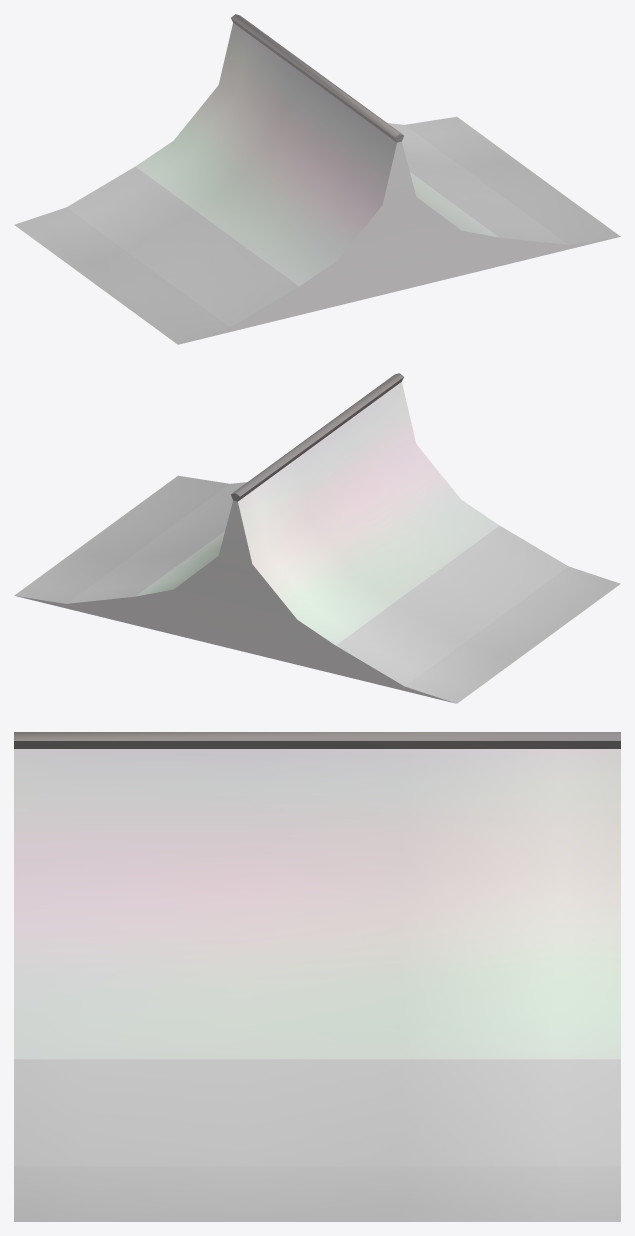
The model's file is SkateboardQuarterpipeSpineCement.glb.
3 views of the same model, one above another, from view 1: azimuth 30°, elevation 25°; view 2: azimuth 150°, elevation 25°; view 3: azimuth 270°, elevation 25° (orthographic). The views are drawn at different scales.
Parts seen in each view (by area): view 1: SkateboardQuarterpipeSpineCement; view 2: SkateboardQuarterpipeSpineCement; view 3: SkateboardQuarterpipeSpineCement.
Part boxes in pixels (bbox=[...]): SkateboardQuarterpipeSpineCement: bbox=[14, 14, 620, 344]; SkateboardQuarterpipeSpineCement: bbox=[14, 373, 620, 703]; SkateboardQuarterpipeSpineCement: bbox=[14, 732, 620, 1221].
Size of the model in its own units: 6.24 by 2.11 by 4.
1 material, 1 textured.
